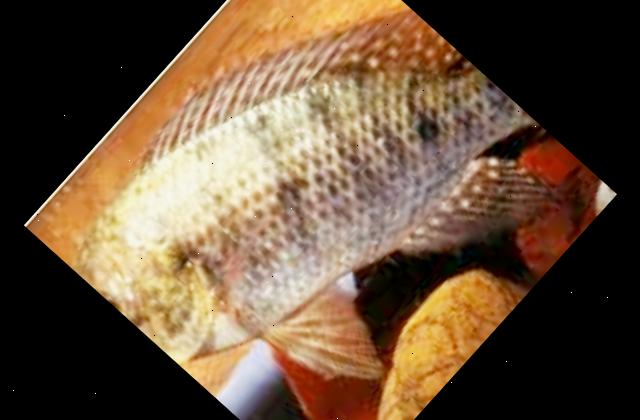Healthy Fish: (71, 8, 560, 380)
